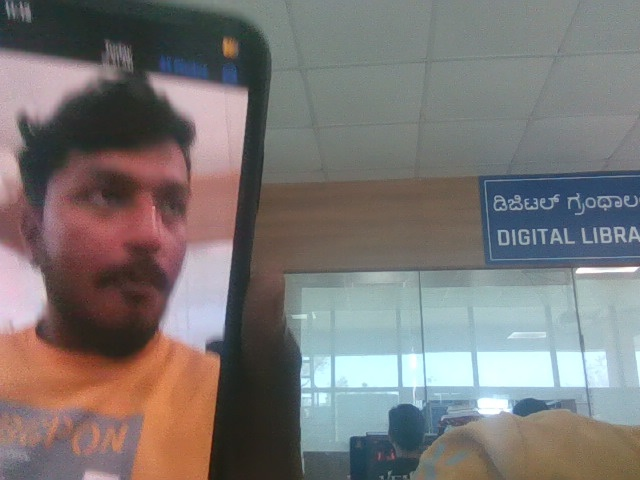fake: (17, 50, 229, 350)
